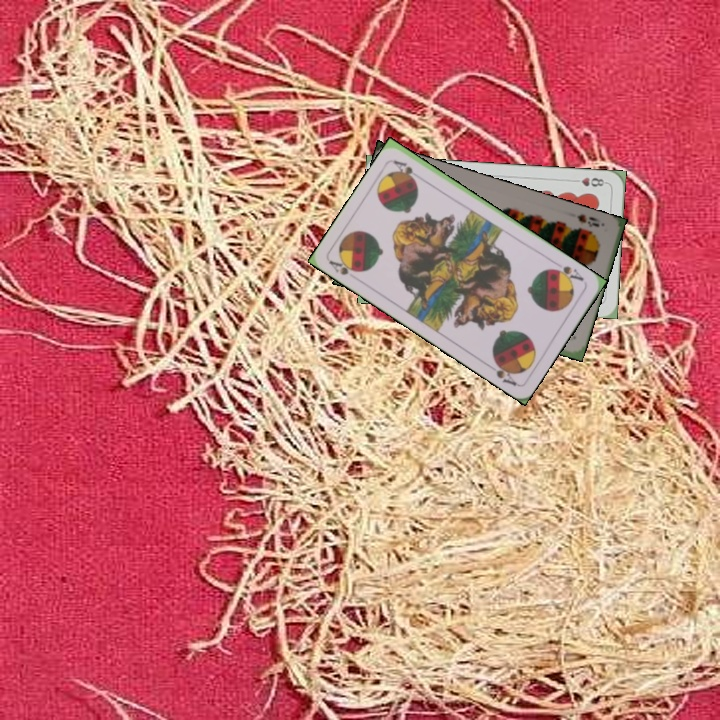H8: (569, 173, 609, 189)
S8: (573, 210, 602, 230)
SA: (547, 258, 586, 285), (325, 254, 365, 278)
